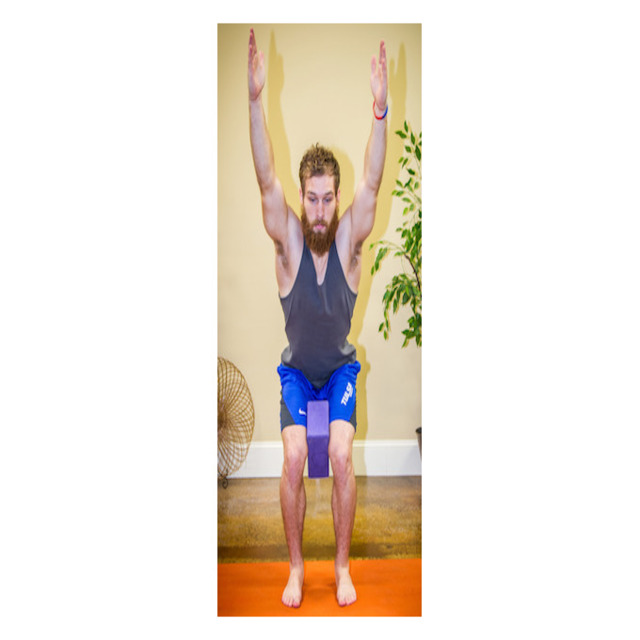Squat_Pose: (243, 28, 393, 609)
